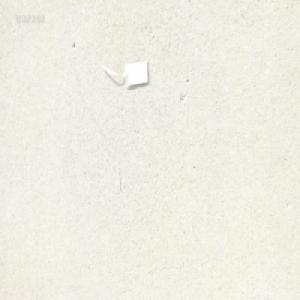LuggageTag: (99, 57, 151, 89)
